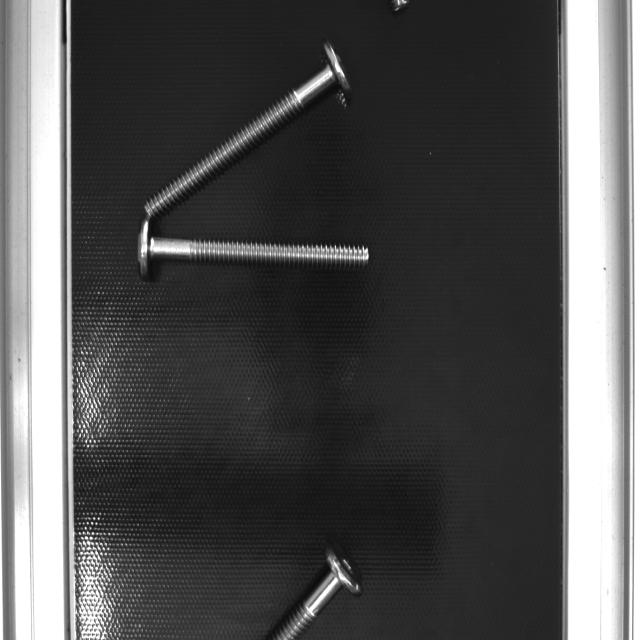bulon: (139, 62, 336, 221), (152, 233, 369, 268), (267, 571, 341, 639)
